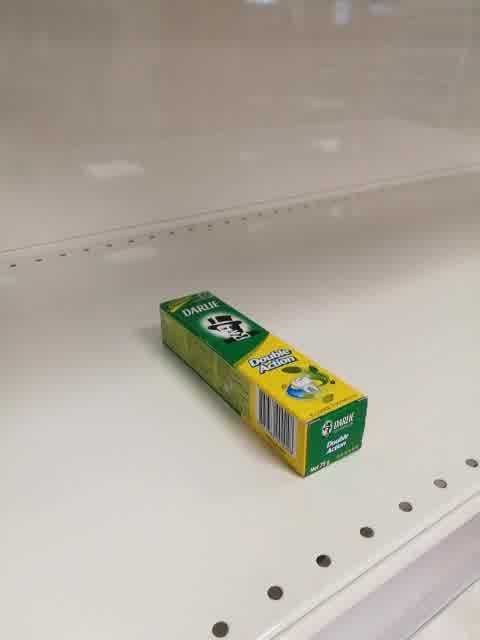toothpaste: (158, 290, 368, 480)
